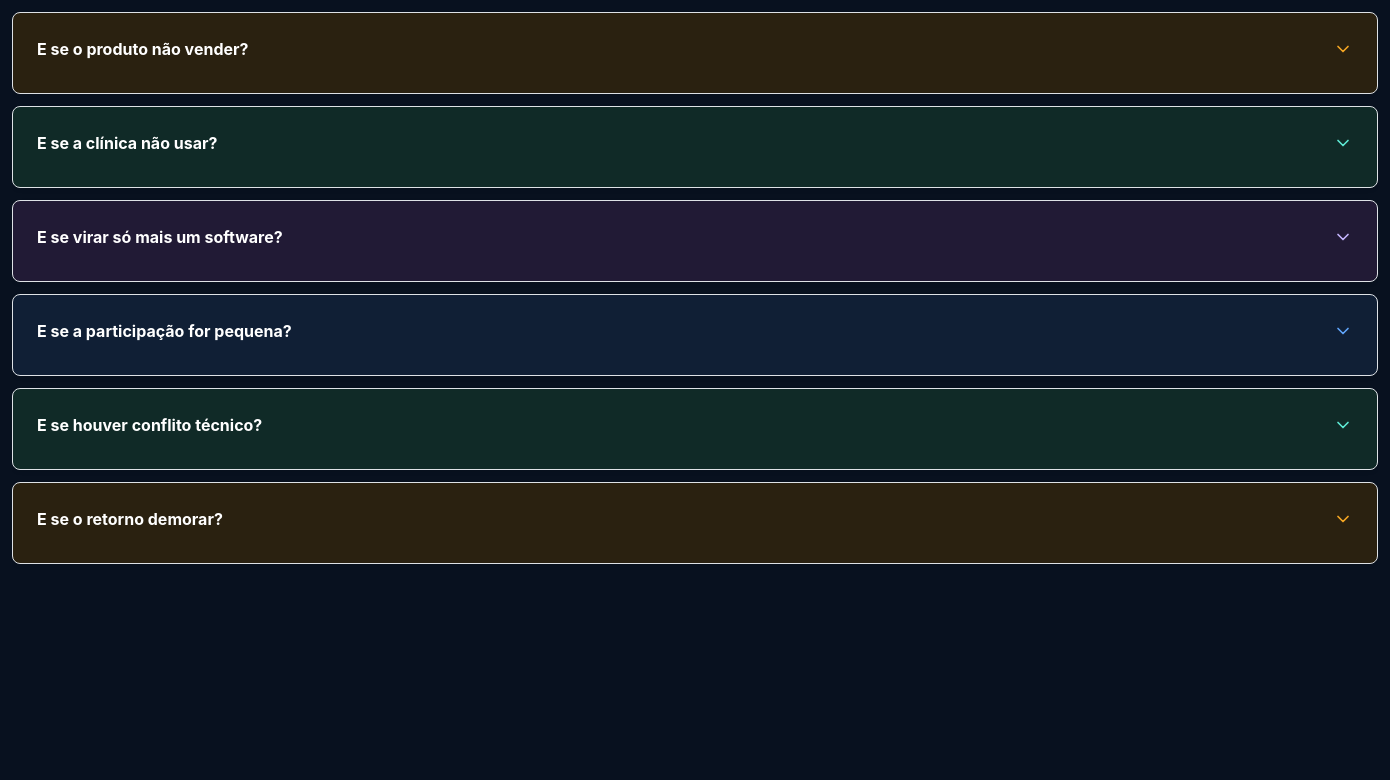
Test: ObjectionAccordion › Single-item expansion behavior › should collapse an expanded item when clicked again
Click the button "E se o produto não vender?".
click(143, 49)  # box [13,13,1377,85]
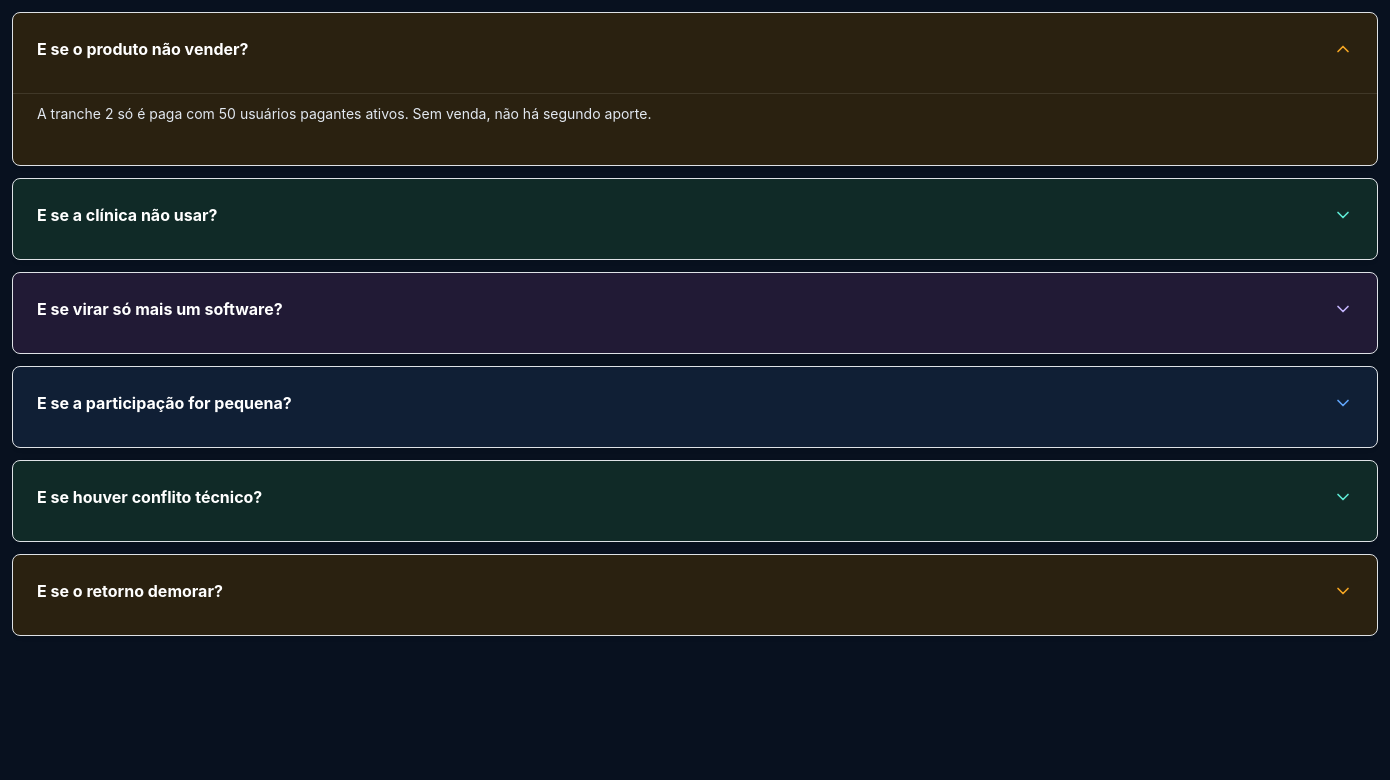
Expected: the button "E se o produto não vender?" is expanded
Click the button "E se o produto não vender?".
click(143, 49)  # box [13,13,1377,85]
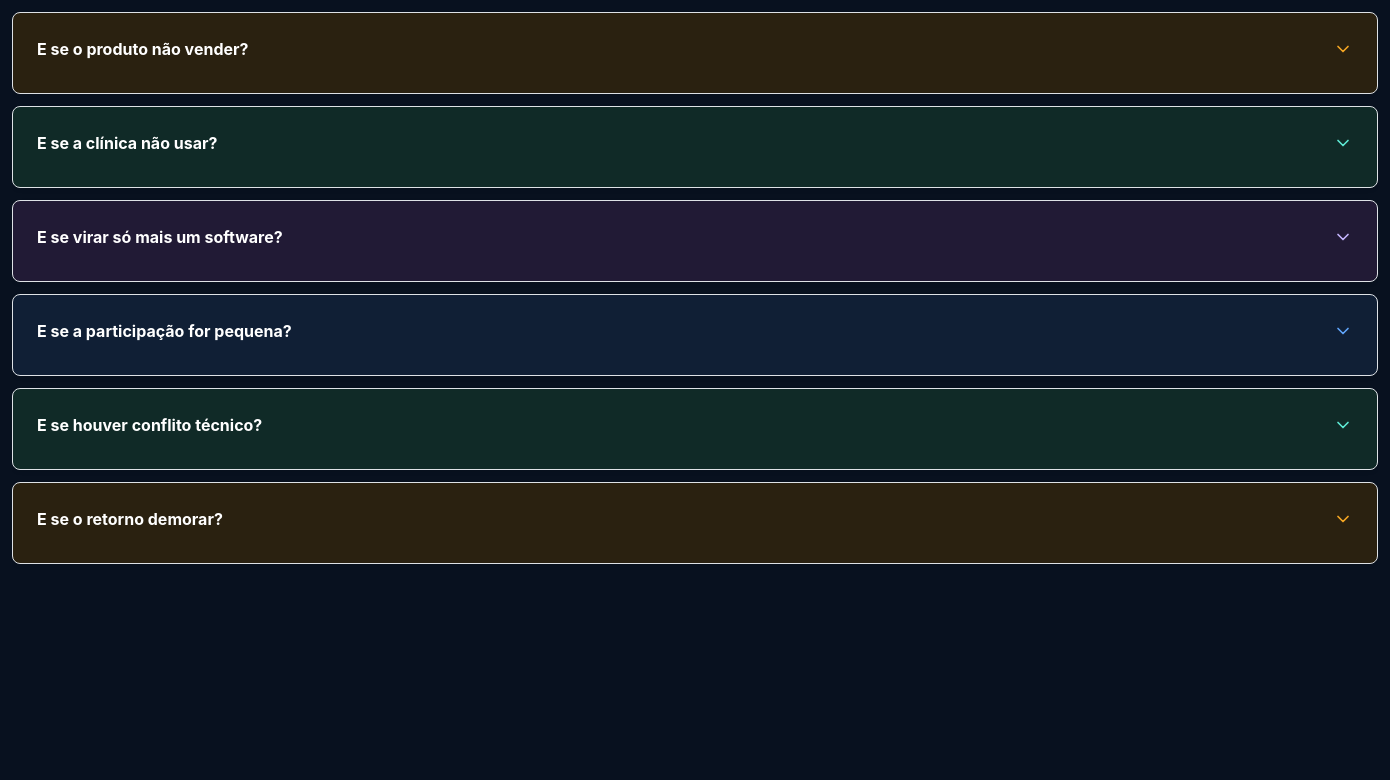
Expected: the button "E se o produto não vender?" is collapsed, [13,13,1377,85]
